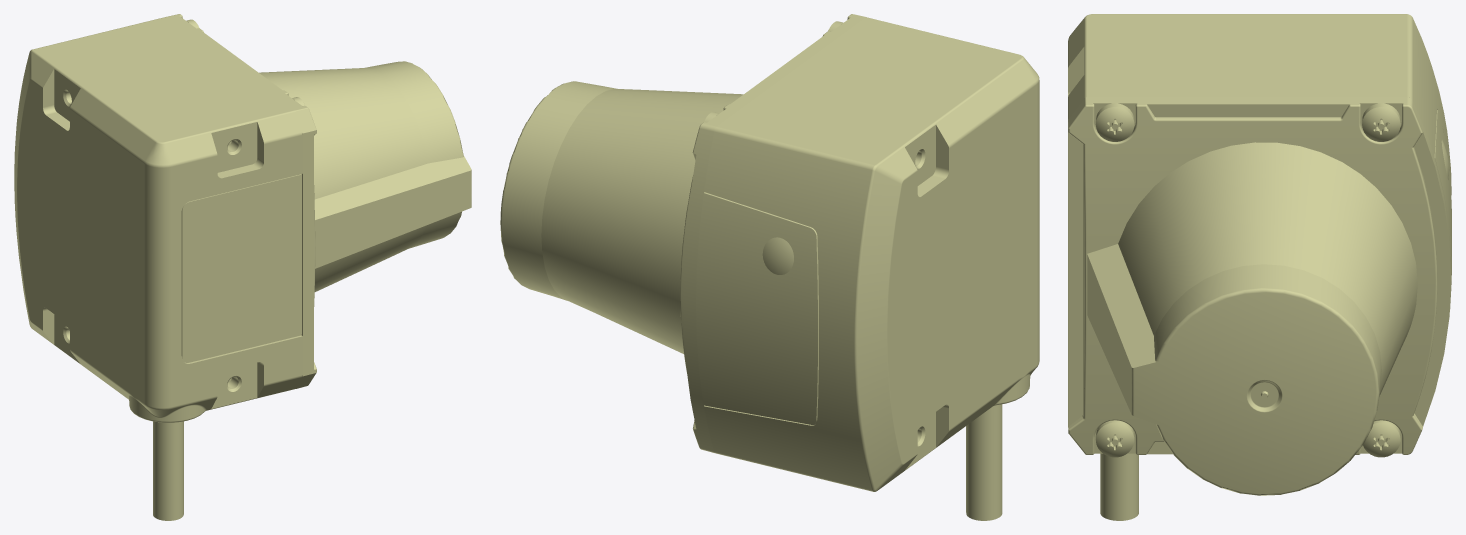
File: lidar-TIM320.glb
The picture shows the model from 3 angles, left to right: view 1: azimuth 30°, elevation 25°; view 2: azimuth 150°, elevation 25°; view 3: azimuth 270°, elevation 25°; orthographic projection. The views are drawn at different scales.
Parts seen in each view (by area): view 1: SOLID; view 2: SOLID; view 3: SOLID.
Part boxes in pixels (<box>): SOLID: <box>14,14,471,520</box>; SOLID: <box>500,14,1039,520</box>; SOLID: <box>1068,14,1451,520</box>.
Size of the model in its own units: 0.0788 by 0.0831 by 0.0595.
